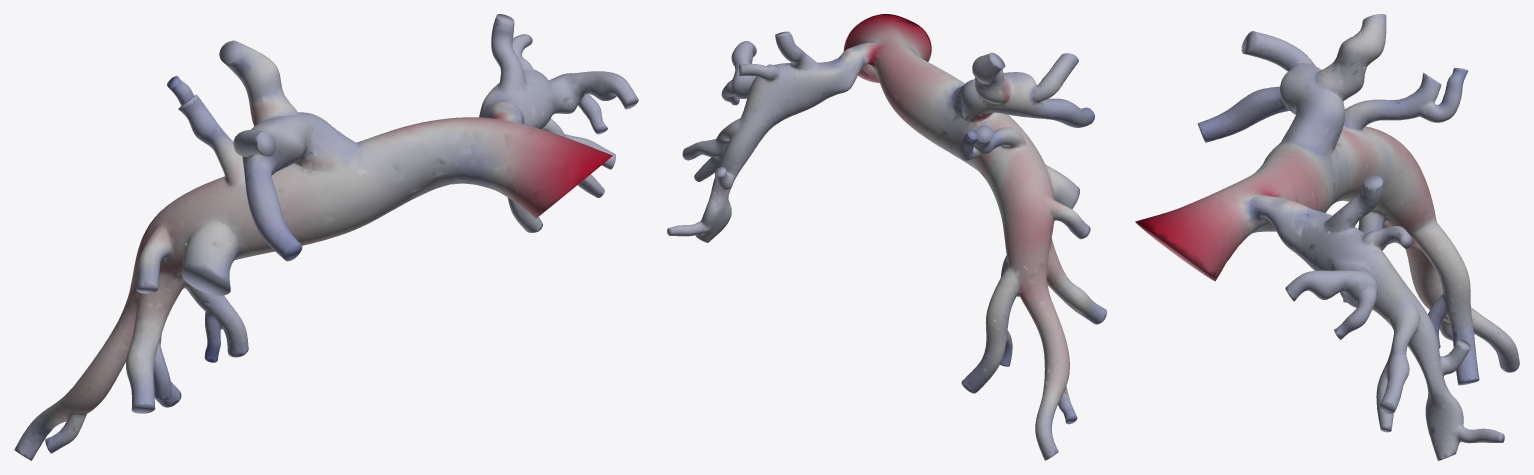
The model's file is tst-stan-5-preop-pressure-static.glb.
3 views of the same model, side by side, from view 1: azimuth 30°, elevation 25°; view 2: azimuth 150°, elevation 25°; view 3: azimuth 270°, elevation 25° (orthographic). The views are drawn at different scales.
Parts seen in each view (by area): view 1: pressure_surface; view 2: pressure_surface; view 3: pressure_surface.
Part boxes in pixels (x1,y1,x2,y2): pressure_surface: (14, 14, 638, 460); pressure_surface: (667, 14, 1106, 460); pressure_surface: (1135, 14, 1519, 460).
Bounding box in the file's own units: 0.18 × 0.139 × 0.1141.
